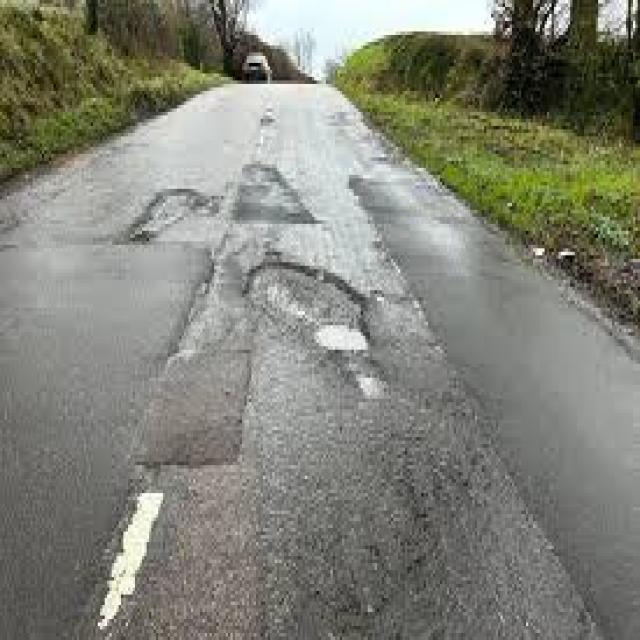pothole: (240, 254, 374, 322), (142, 184, 228, 236), (308, 320, 382, 358)
